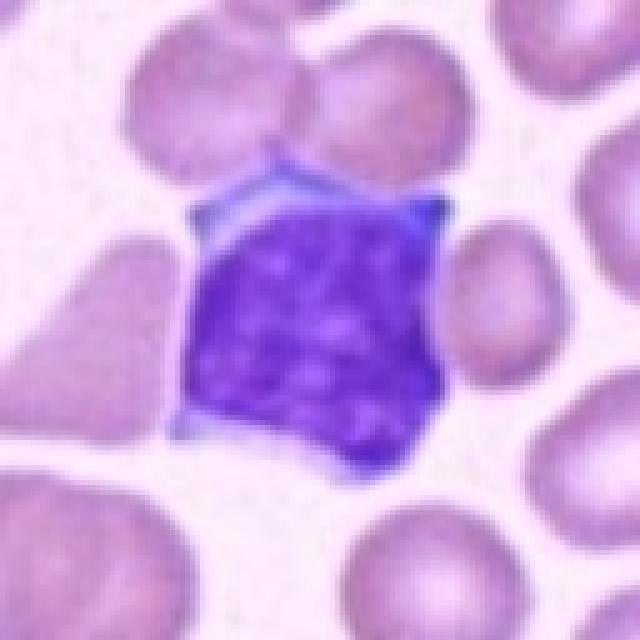lympho: (167, 125, 460, 496)
